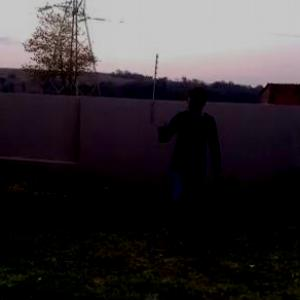takeoff-hand: (142, 113, 176, 147)
